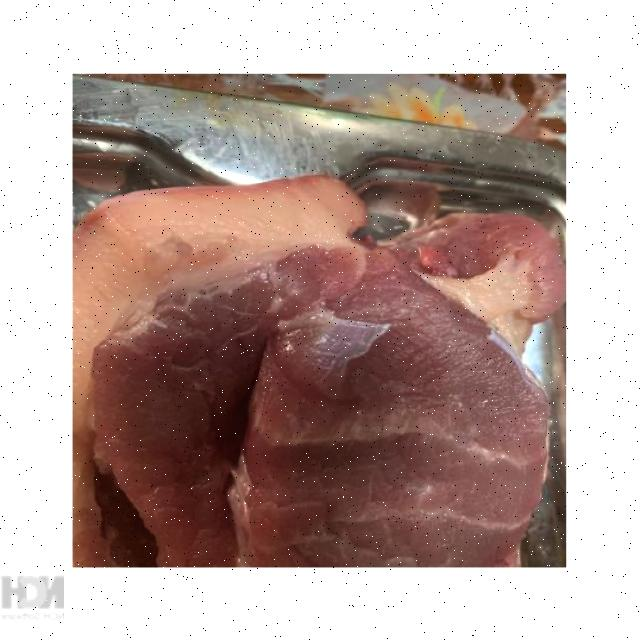rotten meat: (58, 51, 586, 576)
